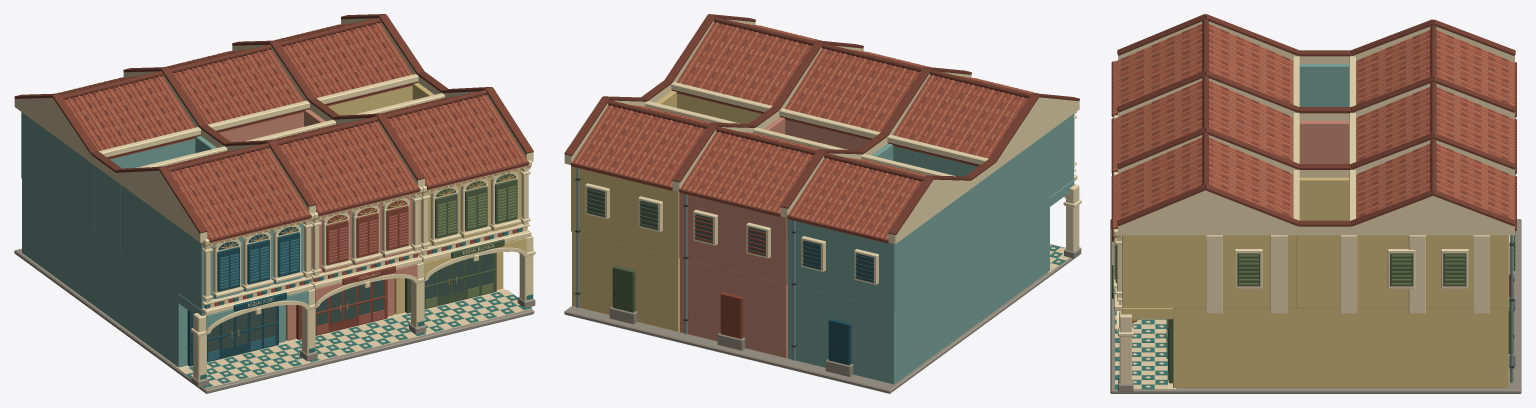
3 renders of one model, left to right at view 1: azimuth 30°, elevation 25°; view 2: azimuth 150°, elevation 25°; view 3: azimuth 270°, elevation 25°, orthographic. The views are drawn at different scales.
Visible parts, largest first — view 1: Clay Roofs and Party Walls, Shutters and Plasterwork, Open Arcade and Shopfronts, Five-Foot Way and Plinth, Airwell and Service Lane, Shop Lettering; view 2: Clay Roofs and Party Walls, Open Arcade and Shopfronts, Shutters and Plasterwork, Airwell and Service Lane, Five-Foot Way and Plinth; view 3: Clay Roofs and Party Walls, Open Arcade and Shopfronts, Airwell and Service Lane, Shutters and Plasterwork, Five-Foot Way and Plinth.
Part boxes in pixels (x1,y1,x2,y2): Clay Roofs and Party Walls: (14, 14, 533, 243); Shutters and Plasterwork: (21, 85, 531, 315); Open Arcade and Shopfronts: (22, 179, 535, 387); Five-Foot Way and Plinth: (14, 248, 534, 393); Airwell and Service Lane: (94, 83, 434, 250); Shop Lettering: (233, 239, 504, 311); Clay Roofs and Party Walls: (564, 14, 1079, 244); Open Arcade and Shopfronts: (572, 180, 1081, 384); Shutters and Plasterwork: (571, 93, 1077, 310); Airwell and Service Lane: (575, 90, 993, 376); Five-Foot Way and Plinth: (564, 244, 1074, 393); Clay Roofs and Party Walls: (1111, 14, 1516, 235); Open Arcade and Shopfronts: (1116, 308, 1508, 391); Airwell and Service Lane: (1206, 64, 1515, 382); Shutters and Plasterwork: (1113, 60, 1508, 310); Five-Foot Way and Plinth: (1110, 219, 1521, 393).
Bounding box in the file's own units: 16.78 × 9.21 × 16.52.
